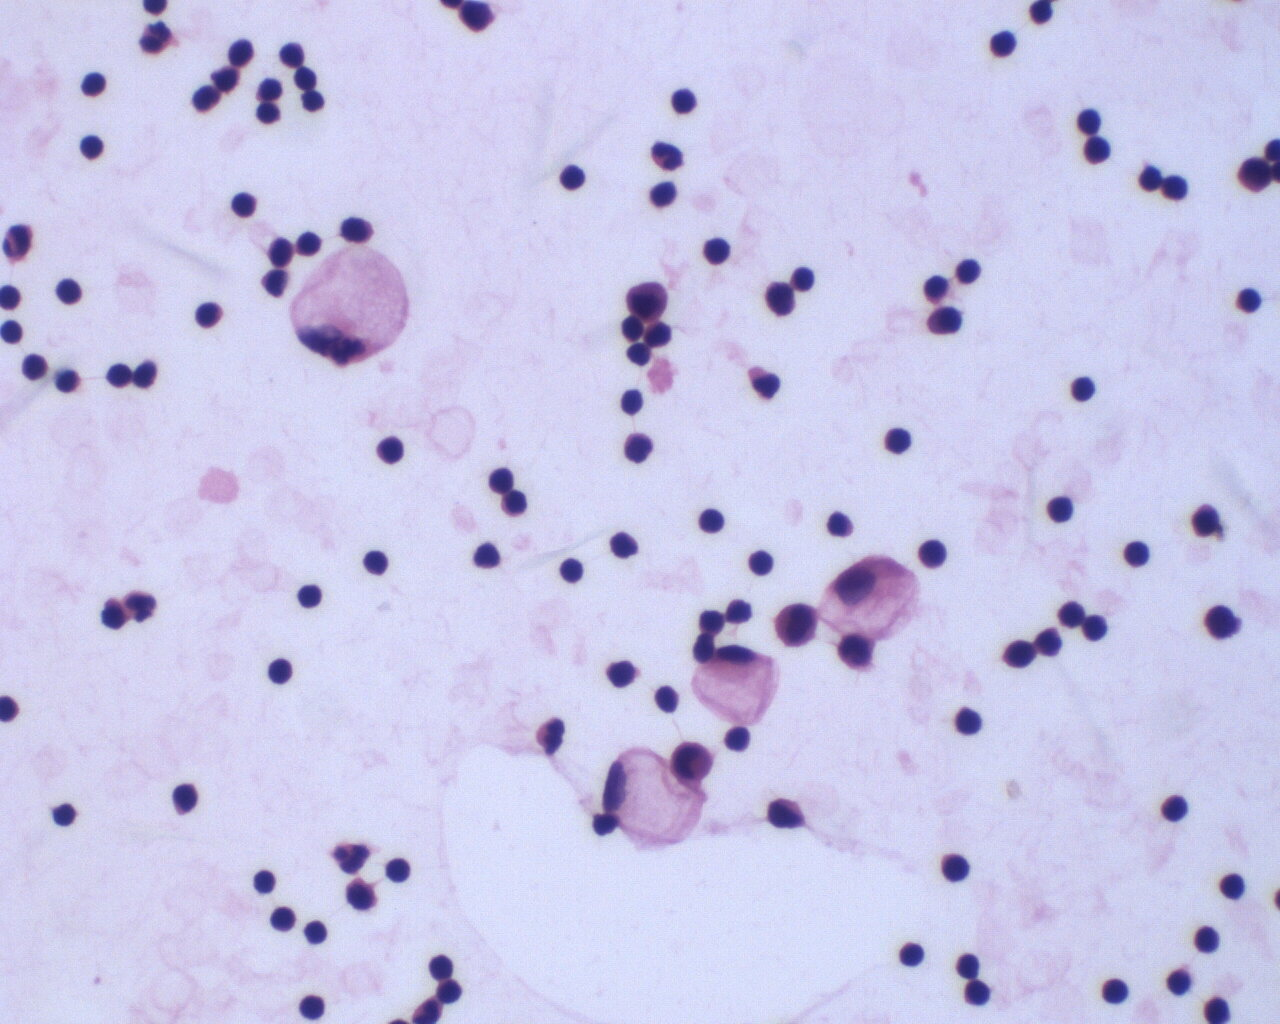histo: (287, 243, 415, 368), (605, 743, 709, 851), (817, 556, 924, 646), (693, 639, 782, 727)
lymph: (945, 703, 994, 743), (373, 430, 418, 472), (876, 422, 918, 461), (1157, 787, 1193, 831), (553, 160, 594, 197), (983, 26, 1025, 62), (695, 506, 738, 540), (379, 852, 418, 889), (667, 83, 705, 120), (952, 252, 988, 292), (938, 848, 974, 889), (1120, 533, 1157, 572), (1098, 973, 1139, 1007), (555, 552, 590, 590), (699, 230, 734, 270), (1066, 370, 1103, 405), (49, 272, 83, 310), (1044, 491, 1078, 528), (360, 545, 394, 583), (1218, 866, 1252, 904), (264, 652, 296, 691), (1071, 103, 1107, 136), (895, 939, 928, 973), (1235, 281, 1264, 318), (228, 187, 259, 220), (78, 69, 111, 99), (249, 866, 278, 898)
neutro: (531, 712, 572, 759), (645, 136, 689, 176), (136, 20, 181, 59), (1, 215, 37, 263), (327, 838, 371, 876), (118, 587, 159, 627)
